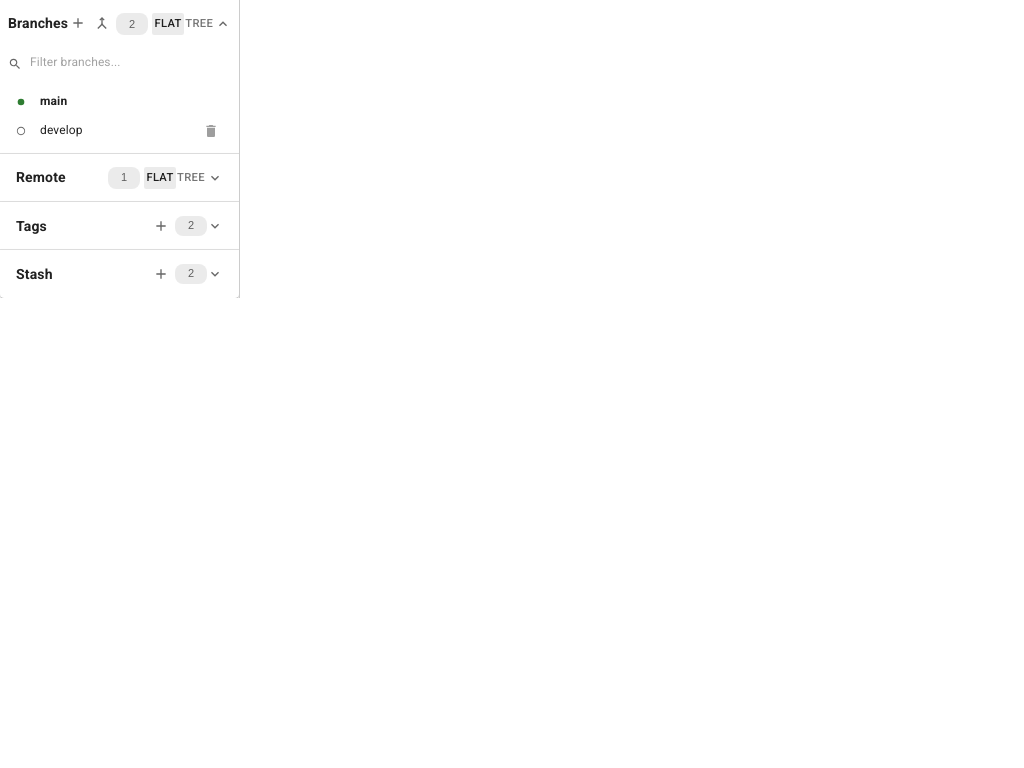
Scenario: cancel closes confirm dialog
Click the icon with test id "DeleteIcon".
click(211, 131)  # box [203,123,219,139]
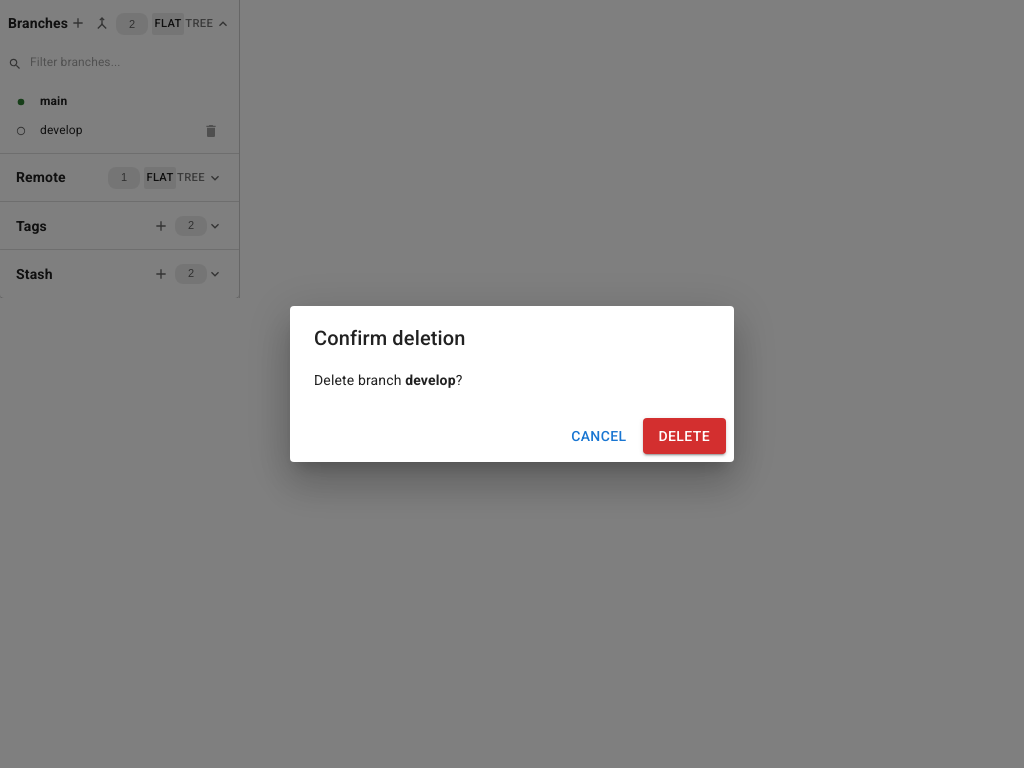
Expected: the dialog is shown, [290,306,734,462]
Click the button "Cancel".
click(599, 436)  # box [563,418,634,454]
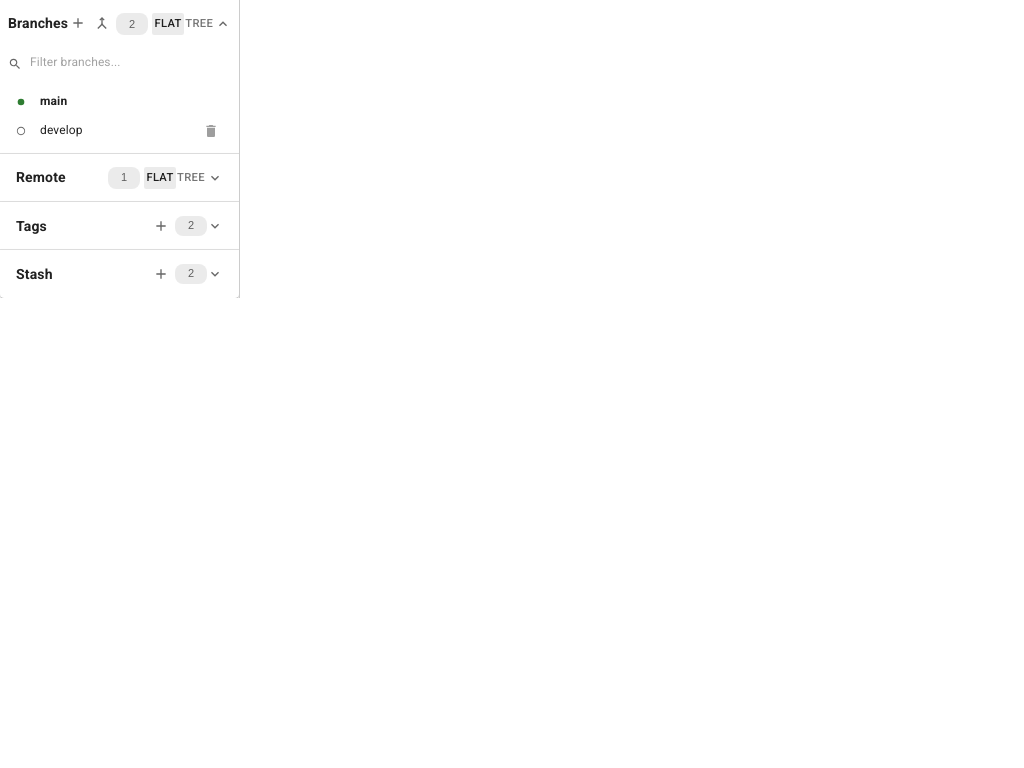
Expected: the dialog is gone
